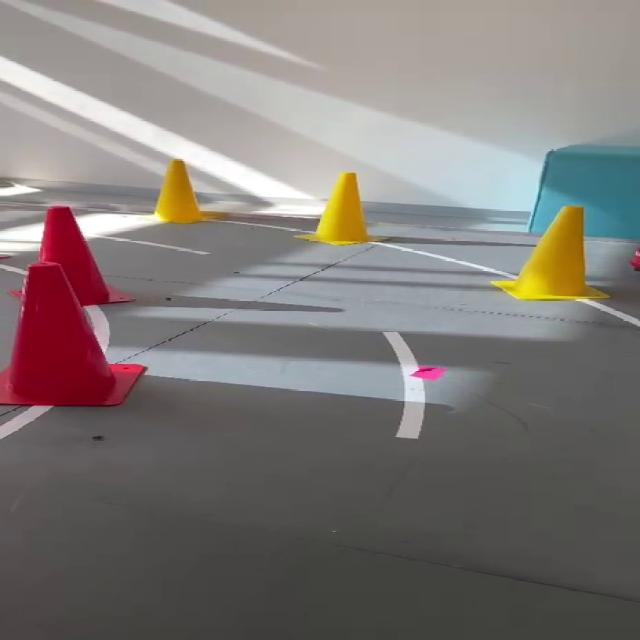Cone-red: (0, 262, 143, 406), (39, 206, 131, 305)
Cones-yellow: (491, 206, 608, 299), (298, 172, 372, 244), (153, 158, 228, 223)
